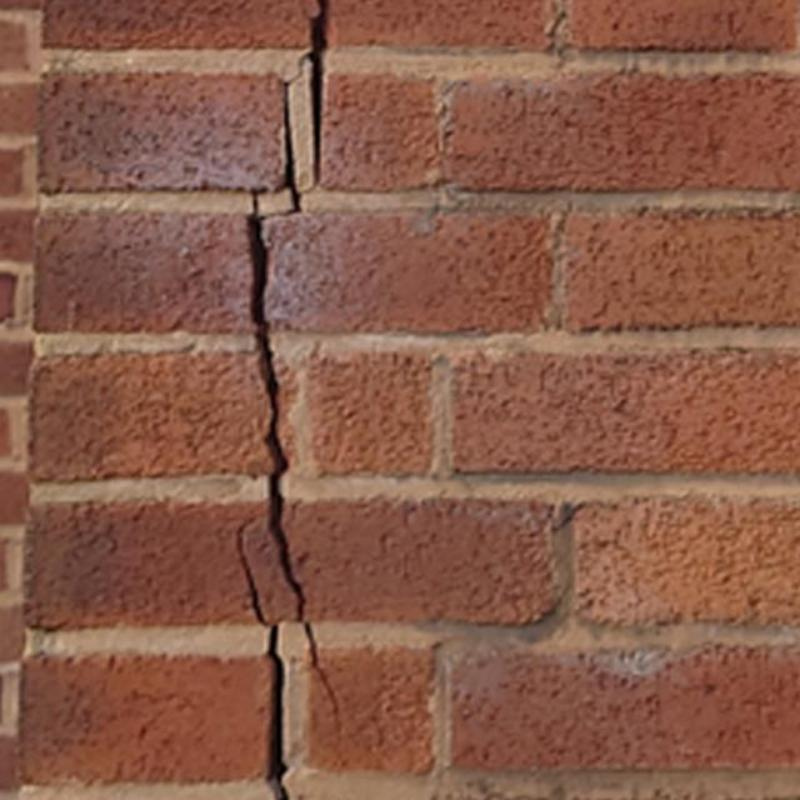crack: (247, 194, 338, 735), (237, 518, 290, 799), (261, 52, 309, 220), (308, 0, 329, 185), (551, 503, 585, 531)
